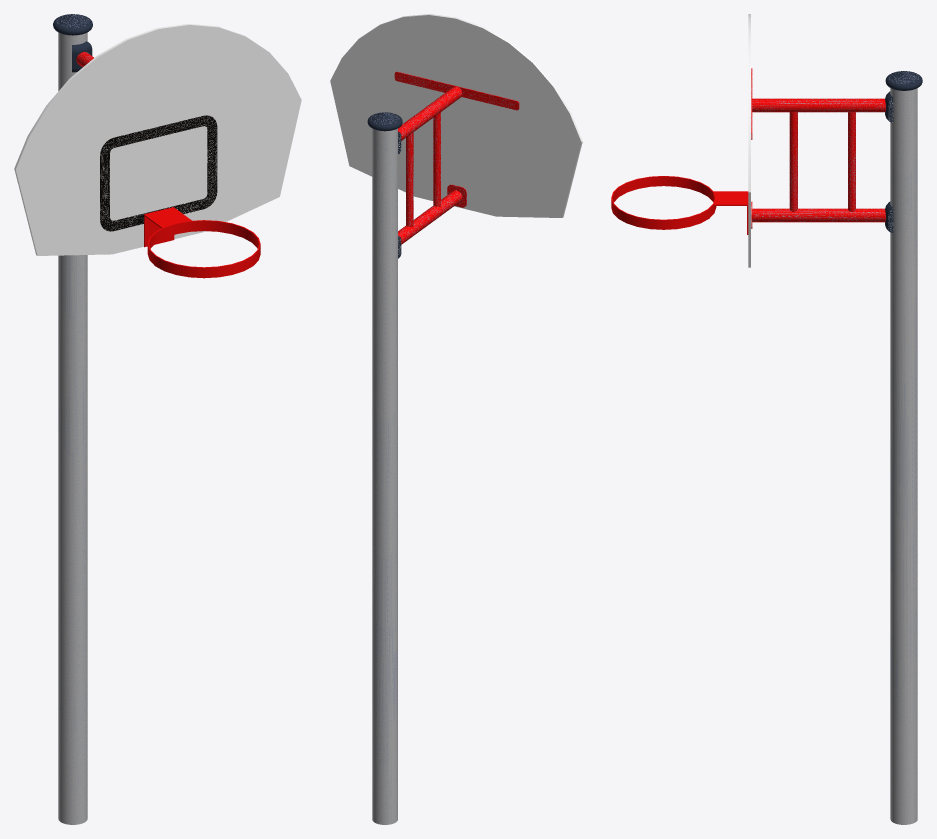
The picture shows the model from 3 angles, left to right: view 1: azimuth 30°, elevation 25°; view 2: azimuth 150°, elevation 25°; view 3: azimuth 270°, elevation 25°; orthographic projection. The views are drawn at different scales.
Parts seen in each view (by area): view 1: SketchUp (×6); view 2: SketchUp (×6); view 3: SketchUp (×8).
Part boxes in pixels (box(x1,y1,x2,y2)): SketchUp (×6): box(14, 23, 301, 824); SketchUp (×6): box(330, 14, 582, 824); SketchUp (×8): box(611, 14, 917, 824).
Bounding box in the file's own units: 56.65 × 57.48 × 161.
